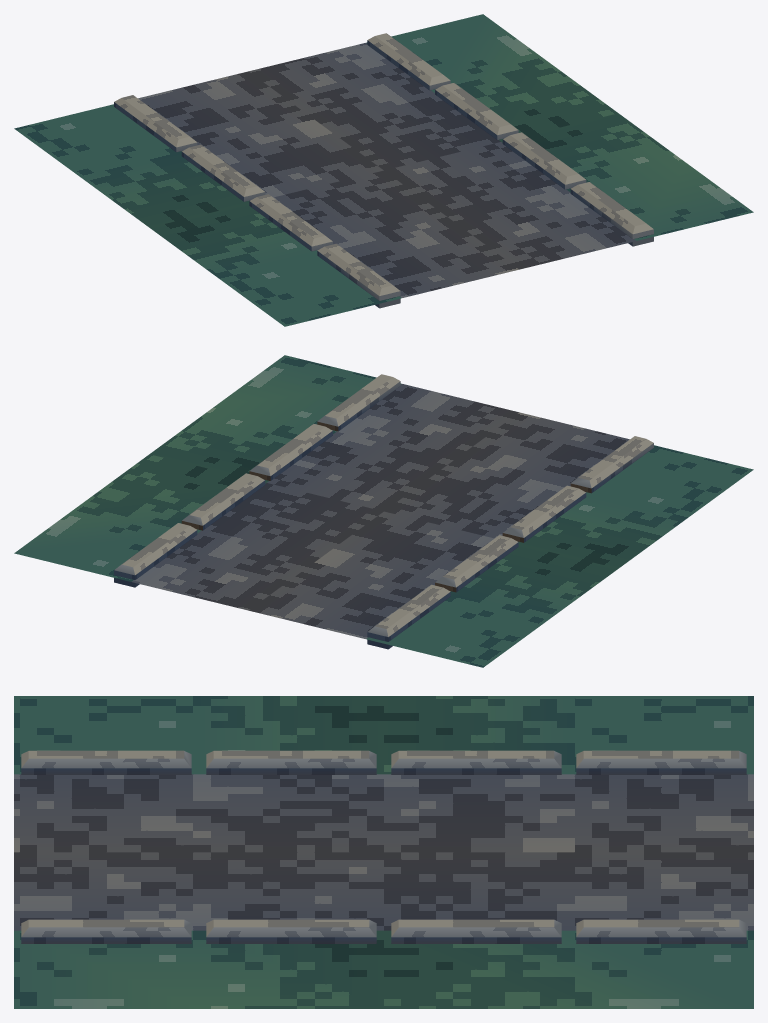
The model's file is mter.ground__path.glb.
The picture shows the model from 3 angles, top to bottom: view 1: azimuth 30°, elevation 25°; view 2: azimuth 150°, elevation 25°; view 3: azimuth 270°, elevation 25°; orthographic projection. The views are drawn at different scales.
Visible parts, largest first — view 1: kit_shell_ground, kit_kerbs; view 2: kit_shell_ground, kit_kerbs; view 3: kit_shell_ground, kit_kerbs.
Boxes of the visible parts, x1,y1,x2,y2 form: kit_shell_ground: (14,14,753,326); kit_kerbs: (114,33,653,308); kit_shell_ground: (14,355,753,667); kit_kerbs: (114,374,653,649); kit_shell_ground: (14,696,753,1008); kit_kerbs: (21,750,746,943).
Bounding box in the file's own units: 4 × 0.14 × 4.
3 materials, 3 textured.
